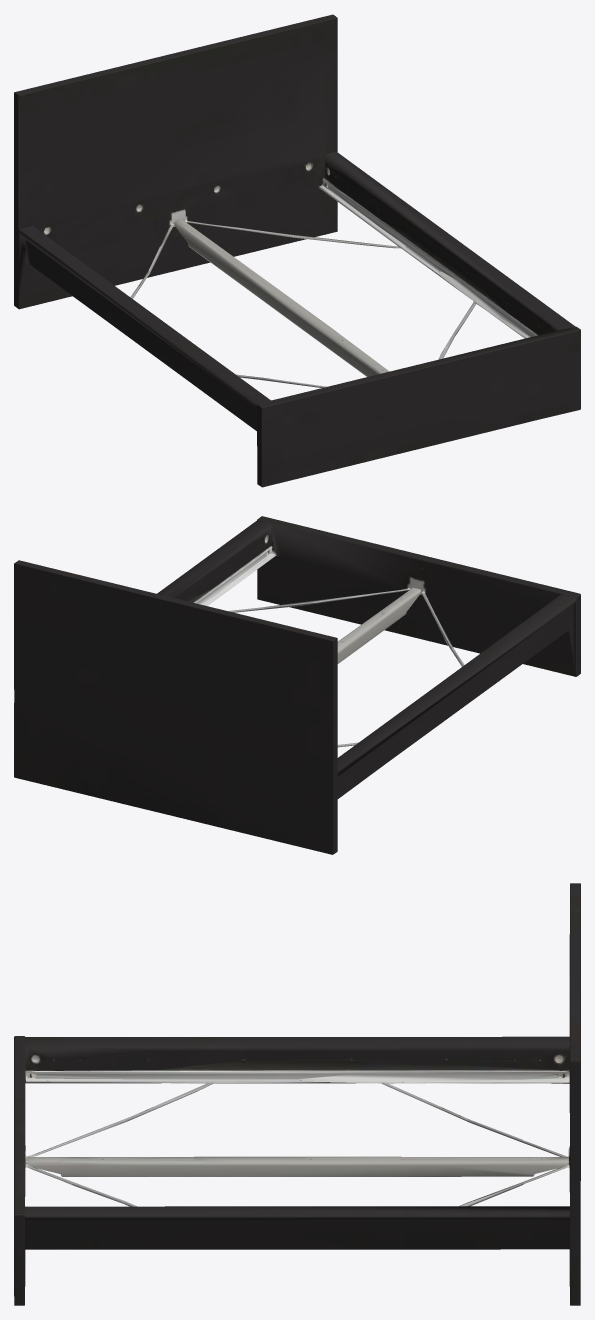
The picture shows the model from 3 angles, top to bottom: view 1: azimuth 30°, elevation 25°; view 2: azimuth 150°, elevation 25°; view 3: azimuth 270°, elevation 25°; orthographic projection. The views are drawn at different scales.
Parts seen in each view (by area): view 1: geo1; view 2: geo1; view 3: geo1.
Part boxes in pixels (x1,y1,x2,y2): geo1: (14,14,580,487); geo1: (14,516,580,854); geo1: (14,883,580,1305).
Size of the model in its own units: 1.56 by 1.01 by 2.1.
Materials: 1 (1 with a texture image).
